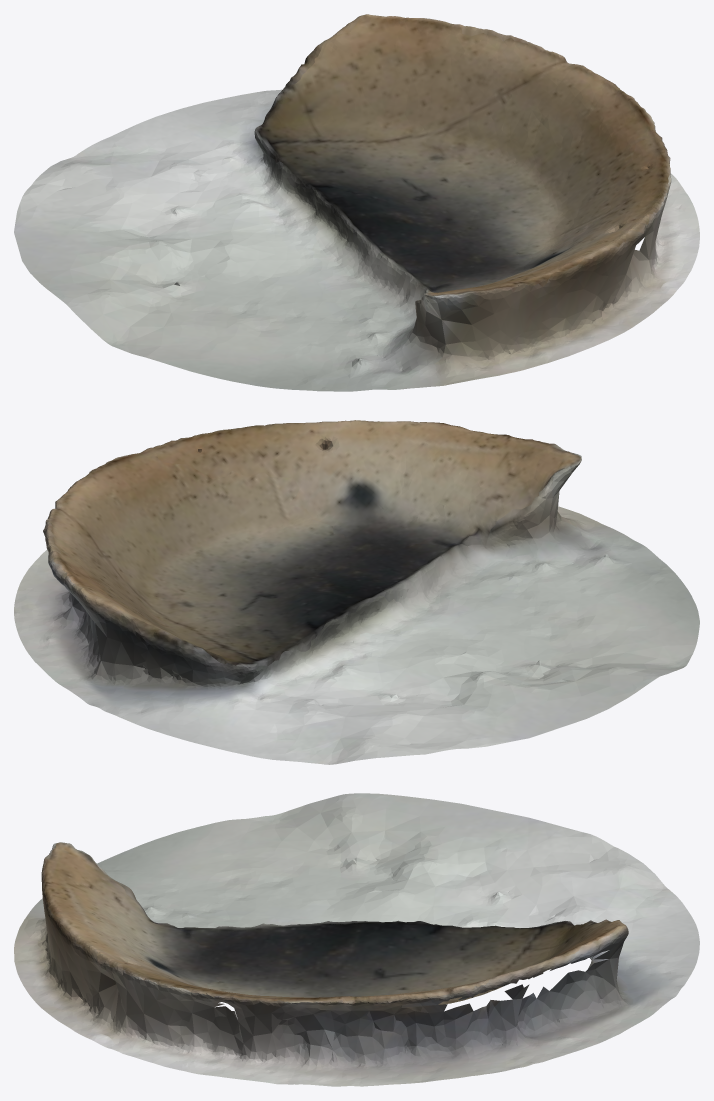
The model's file is model04_small.glb.
3 views of the same model, one above another, from view 1: azimuth 30°, elevation 25°; view 2: azimuth 150°, elevation 25°; view 3: azimuth 270°, elevation 25° (orthographic).
Visible parts, largest first — view 1: mesh; view 2: mesh; view 3: mesh.
Boxes of the visible parts, bbox=[...] form: mesh: bbox=[14, 14, 699, 391]; mesh: bbox=[14, 420, 699, 764]; mesh: bbox=[14, 793, 699, 1086].
Bounding box in the file's own units: 0.1883 × 0.0308 × 0.189.
1 material, 1 textured.
